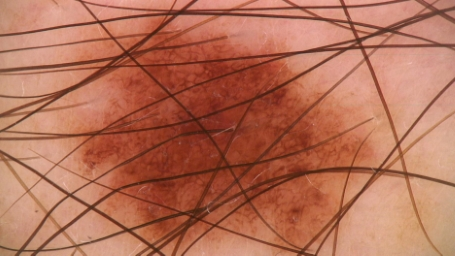nevus: (83, 33, 372, 256)
